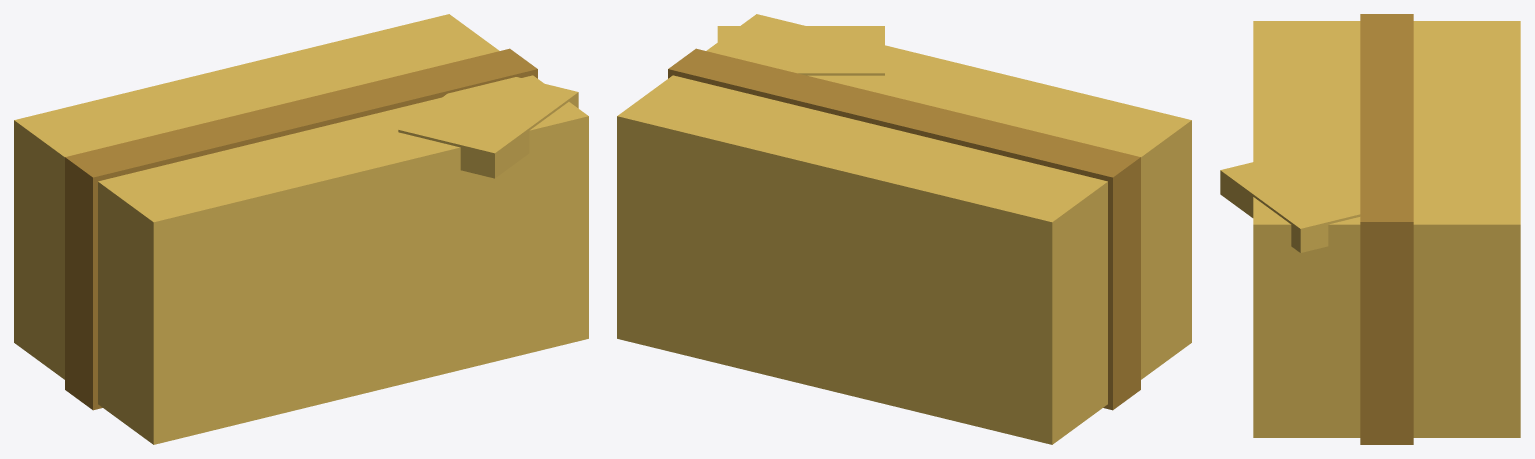
File: prop_debris_hay.glb
3 renders of one model, left to right at view 1: azimuth 30°, elevation 25°; view 2: azimuth 150°, elevation 25°; view 3: azimuth 270°, elevation 25°, orthographic. The views are drawn at different scales.
Visible parts, largest first — view 1: prop_debris_hay; view 2: prop_debris_hay; view 3: prop_debris_hay.
Boxes of the visible parts, box(x1,y1,x2,y2) form: prop_debris_hay: box(14, 14, 588, 444); prop_debris_hay: box(617, 14, 1191, 444); prop_debris_hay: box(1220, 14, 1520, 444).
Size of the model in its own units: 0.9399 by 0.46 by 0.5616.
1 material, 1 textured.
